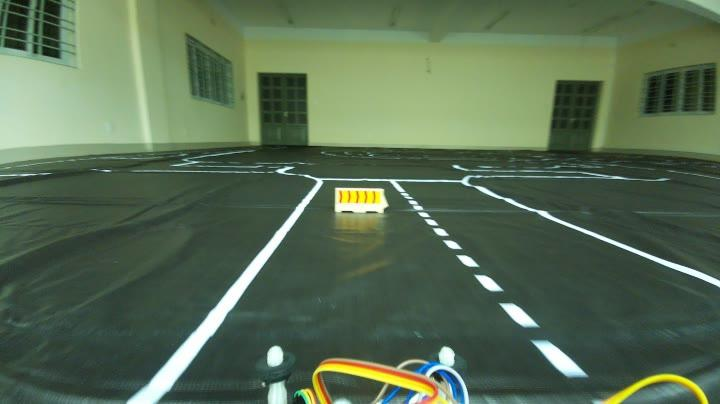roadblock: (330, 184, 390, 218)
